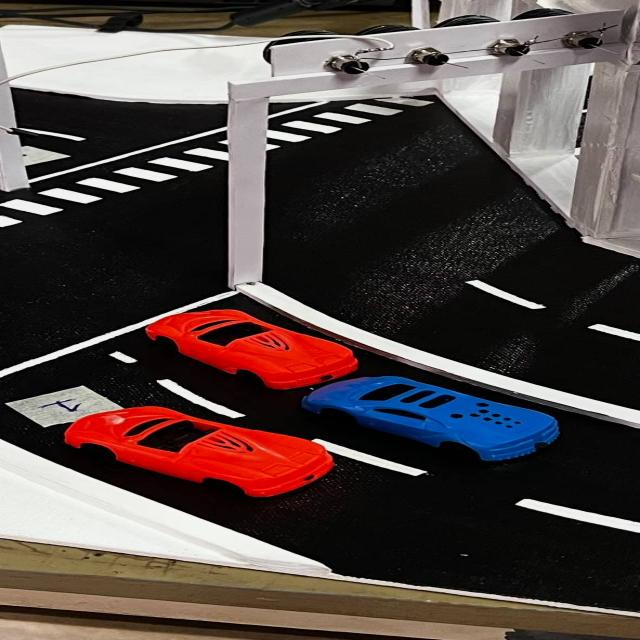car: (32, 397, 344, 509), (293, 368, 562, 468), (136, 305, 362, 388)
